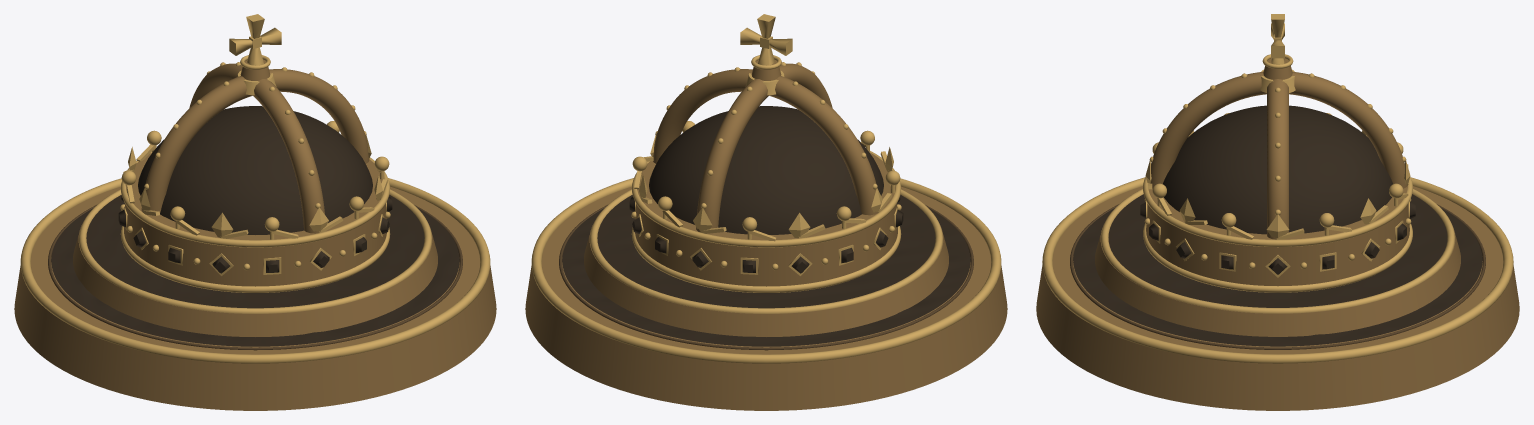
The model's file is ch2-piece-crown.glb.
3 views of the same model, side by side, from view 1: azimuth 30°, elevation 25°; view 2: azimuth 150°, elevation 25°; view 3: azimuth 270°, elevation 25° (orthographic).
Parts seen in each view (by area): view 1: base_body, velvet_cap, circlet, tier_field, pedestal_tier, base_lip, base_field, arch_0, arch_1, tier_lip, band_edge_1, band_edge_0 (+1 smaller); view 2: base_body, velvet_cap, circlet, tier_field, pedestal_tier, base_lip, base_field, arch_0, arch_1, tier_lip, band_edge_1, band_edge_0 (+1 smaller); view 3: base_body, velvet_cap, circlet, tier_field, pedestal_tier, base_lip, base_field, arch_1, tier_lip, arch_0, band_edge_1, band_edge_0 (+1 smaller).
Boxes of the visible parts, <box> form: base_body: <box>14,186,496,410</box>; velvet_cap: <box>138,106,372,234</box>; circlet: <box>124,152,386,286</box>; tier_field: <box>86,195,424,308</box>; pedestal_tier: <box>73,225,437,336</box>; base_lip: <box>20,178,490,363</box>; base_field: <box>51,208,459,346</box>; arch_0: <box>141,69,369,212</box>; arch_1: <box>189,63,324,233</box>; tier_lip: <box>79,189,431,313</box>; band_edge_1: <box>120,152,390,247</box>; band_edge_0: <box>120,226,390,292</box>; base_body: <box>525,186,1007,410</box>; velvet_cap: <box>649,106,883,234</box>; circlet: <box>635,152,897,286</box>; tier_field: <box>597,195,935,308</box>; pedestal_tier: <box>584,225,948,336</box>; base_lip: <box>531,178,1001,363</box>; base_field: <box>562,208,970,346</box>; arch_0: <box>653,69,877,215</box>; arch_1: <box>696,63,832,232</box>; tier_lip: <box>590,189,942,313</box>; band_edge_1: <box>631,151,901,247</box>; band_edge_0: <box>631,226,901,292</box>; base_body: <box>1036,186,1519,410</box>; velvet_cap: <box>1163,105,1392,234</box>; circlet: <box>1146,185,1409,286</box>; tier_field: <box>1108,194,1447,307</box>; pedestal_tier: <box>1095,225,1460,336</box>; base_lip: <box>1042,177,1513,363</box>; base_field: <box>1073,208,1482,346</box>; arch_1: <box>1150,71,1407,188</box>; tier_lip: <box>1101,189,1454,313</box>; arch_0: <box>1267,79,1288,239</box>; band_edge_1: <box>1143,177,1412,247</box>; band_edge_0: <box>1143,224,1412,292</box>.
Size of the model in its own units: 0.1689 by 0.1125 by 0.1689.
